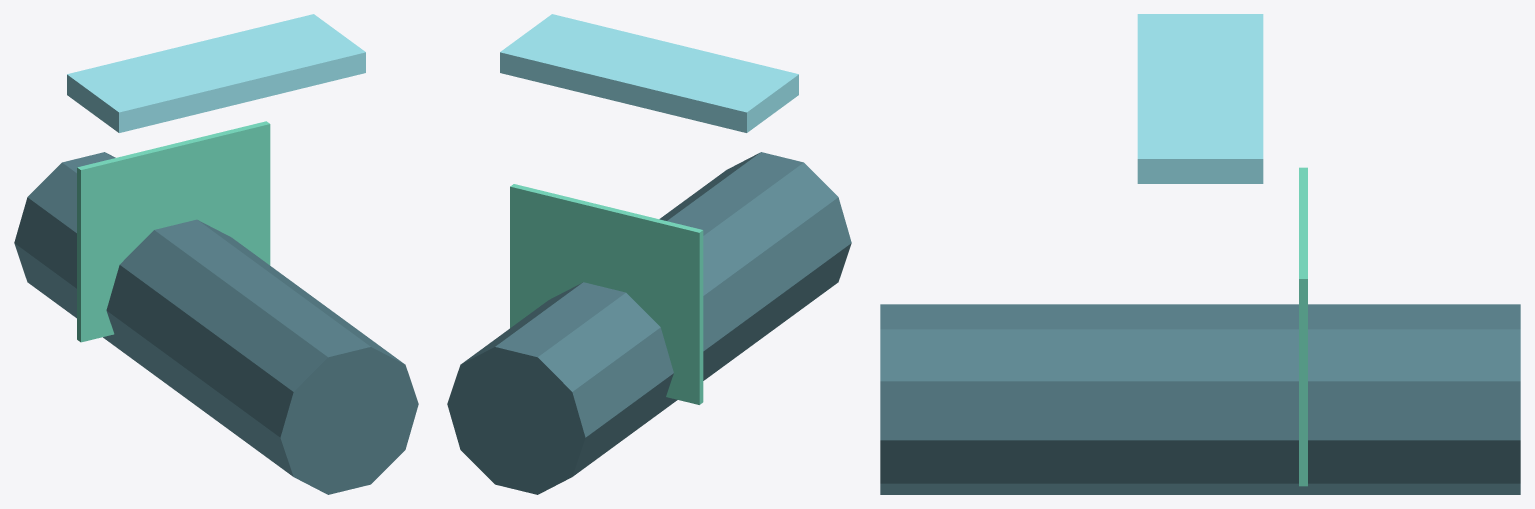
Rendered from vale-innovation-pylon-lod1.glb.
3 renders of one model, left to right at view 1: azimuth 30°, elevation 25°; view 2: azimuth 150°, elevation 25°; view 3: azimuth 270°, elevation 25°, orthographic. The views are drawn at different scales.
Parts seen in each view (by area): view 1: column, panel, cap; view 2: column, panel, cap; view 3: column, cap, panel.
Part boxes in pixels (x1,y1,x2,y2): column: (14, 152, 418, 494); panel: (77, 121, 270, 342); cap: (67, 14, 365, 132); column: (447, 152, 851, 494); panel: (510, 184, 703, 404); cap: (500, 14, 798, 132); column: (880, 304, 1520, 494); cap: (1137, 14, 1263, 183); panel: (1299, 167, 1307, 486).
Bounding box in the file's own units: 1.5 × 1.91 × 2.8.
